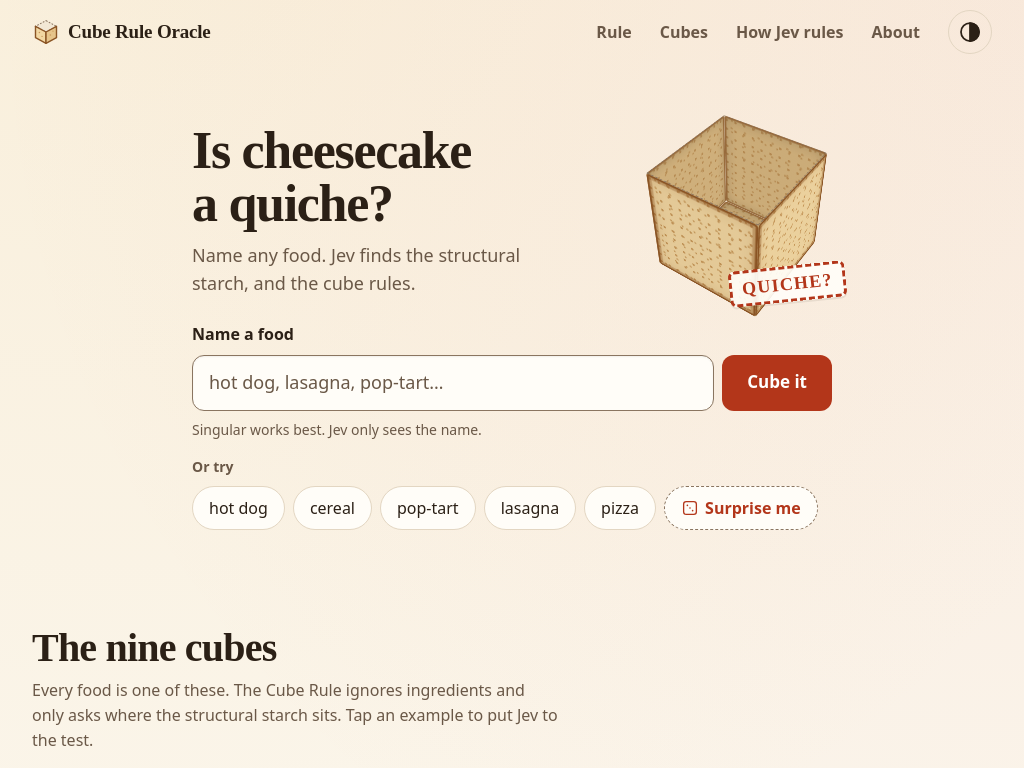
Test: the human check inside the app › waits for the check instead of blaming Jev for the wait
Type "kimchi taco" into the field labelled "Name a food".
click(453, 383); type("kimchi taco")  # box [192,355,714,411]
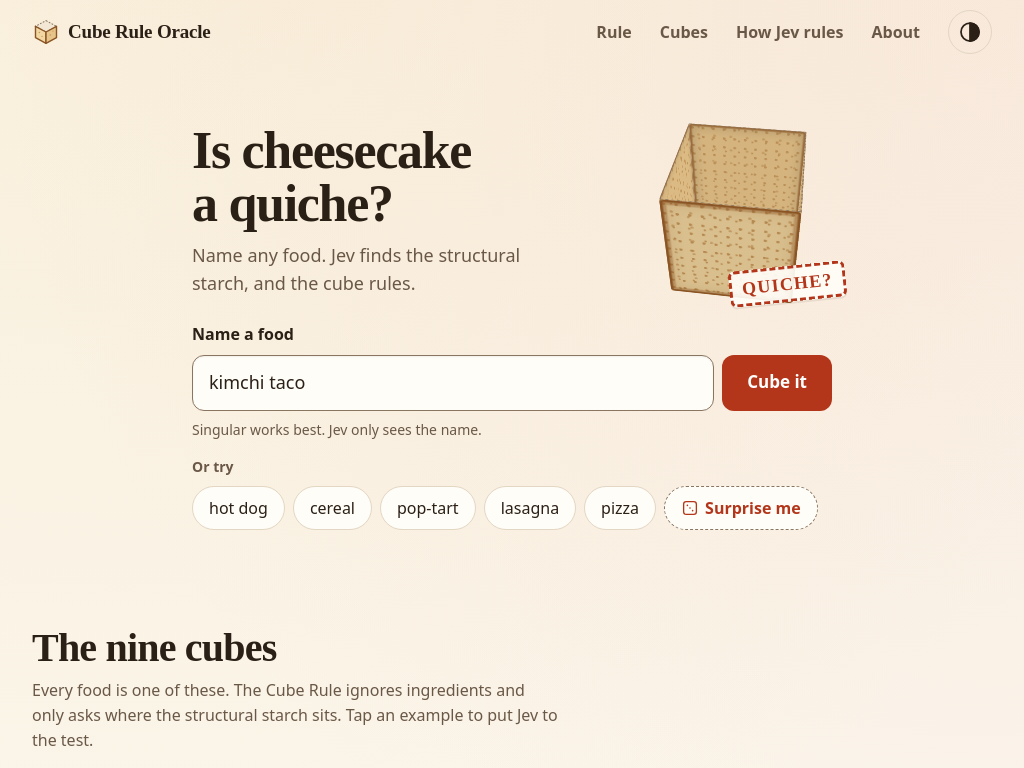
Click the button "Cube it".
click(777, 383)  # box [722,355,832,411]
Wait 5000 ms
(page scrolled)
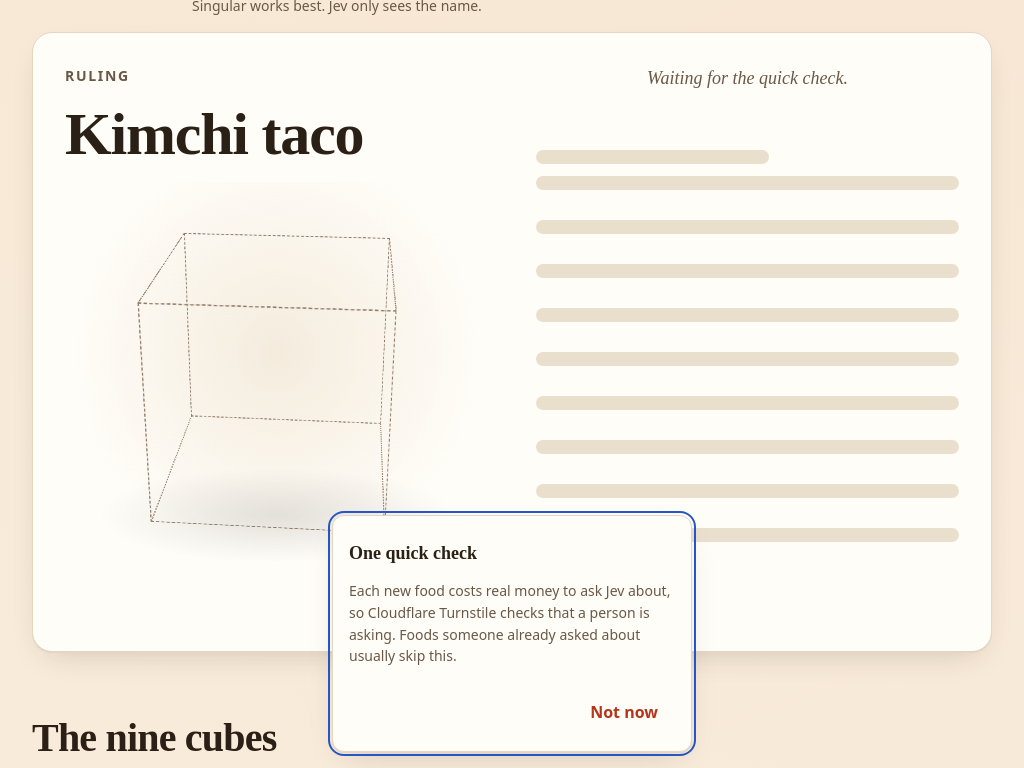
Now the element with class "ruling" shows "Waiting for the quick check.", box [647,68,848,88]
